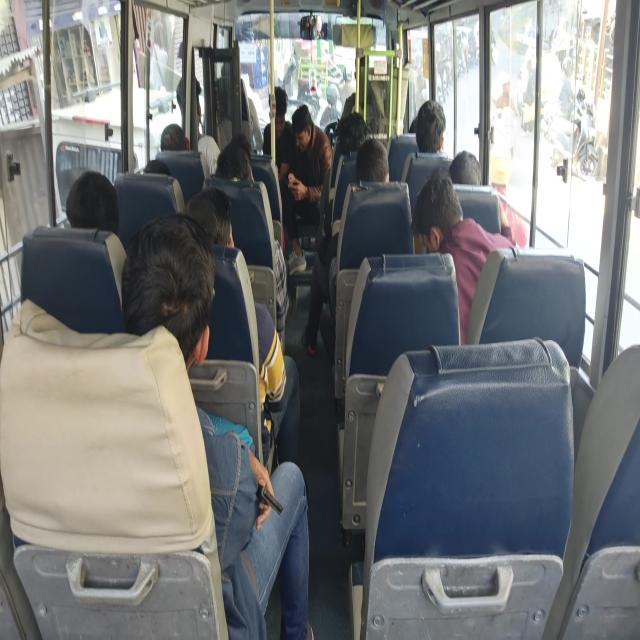person: (124, 213, 212, 358), (186, 191, 245, 254), (64, 167, 123, 229), (414, 178, 470, 240), (359, 137, 399, 191), (452, 143, 492, 191), (414, 98, 447, 154), (292, 105, 324, 157), (173, 70, 208, 116), (265, 80, 293, 135), (337, 112, 374, 153), (216, 140, 250, 182), (232, 126, 263, 163), (161, 125, 197, 152), (406, 109, 429, 138), (144, 153, 169, 179)
